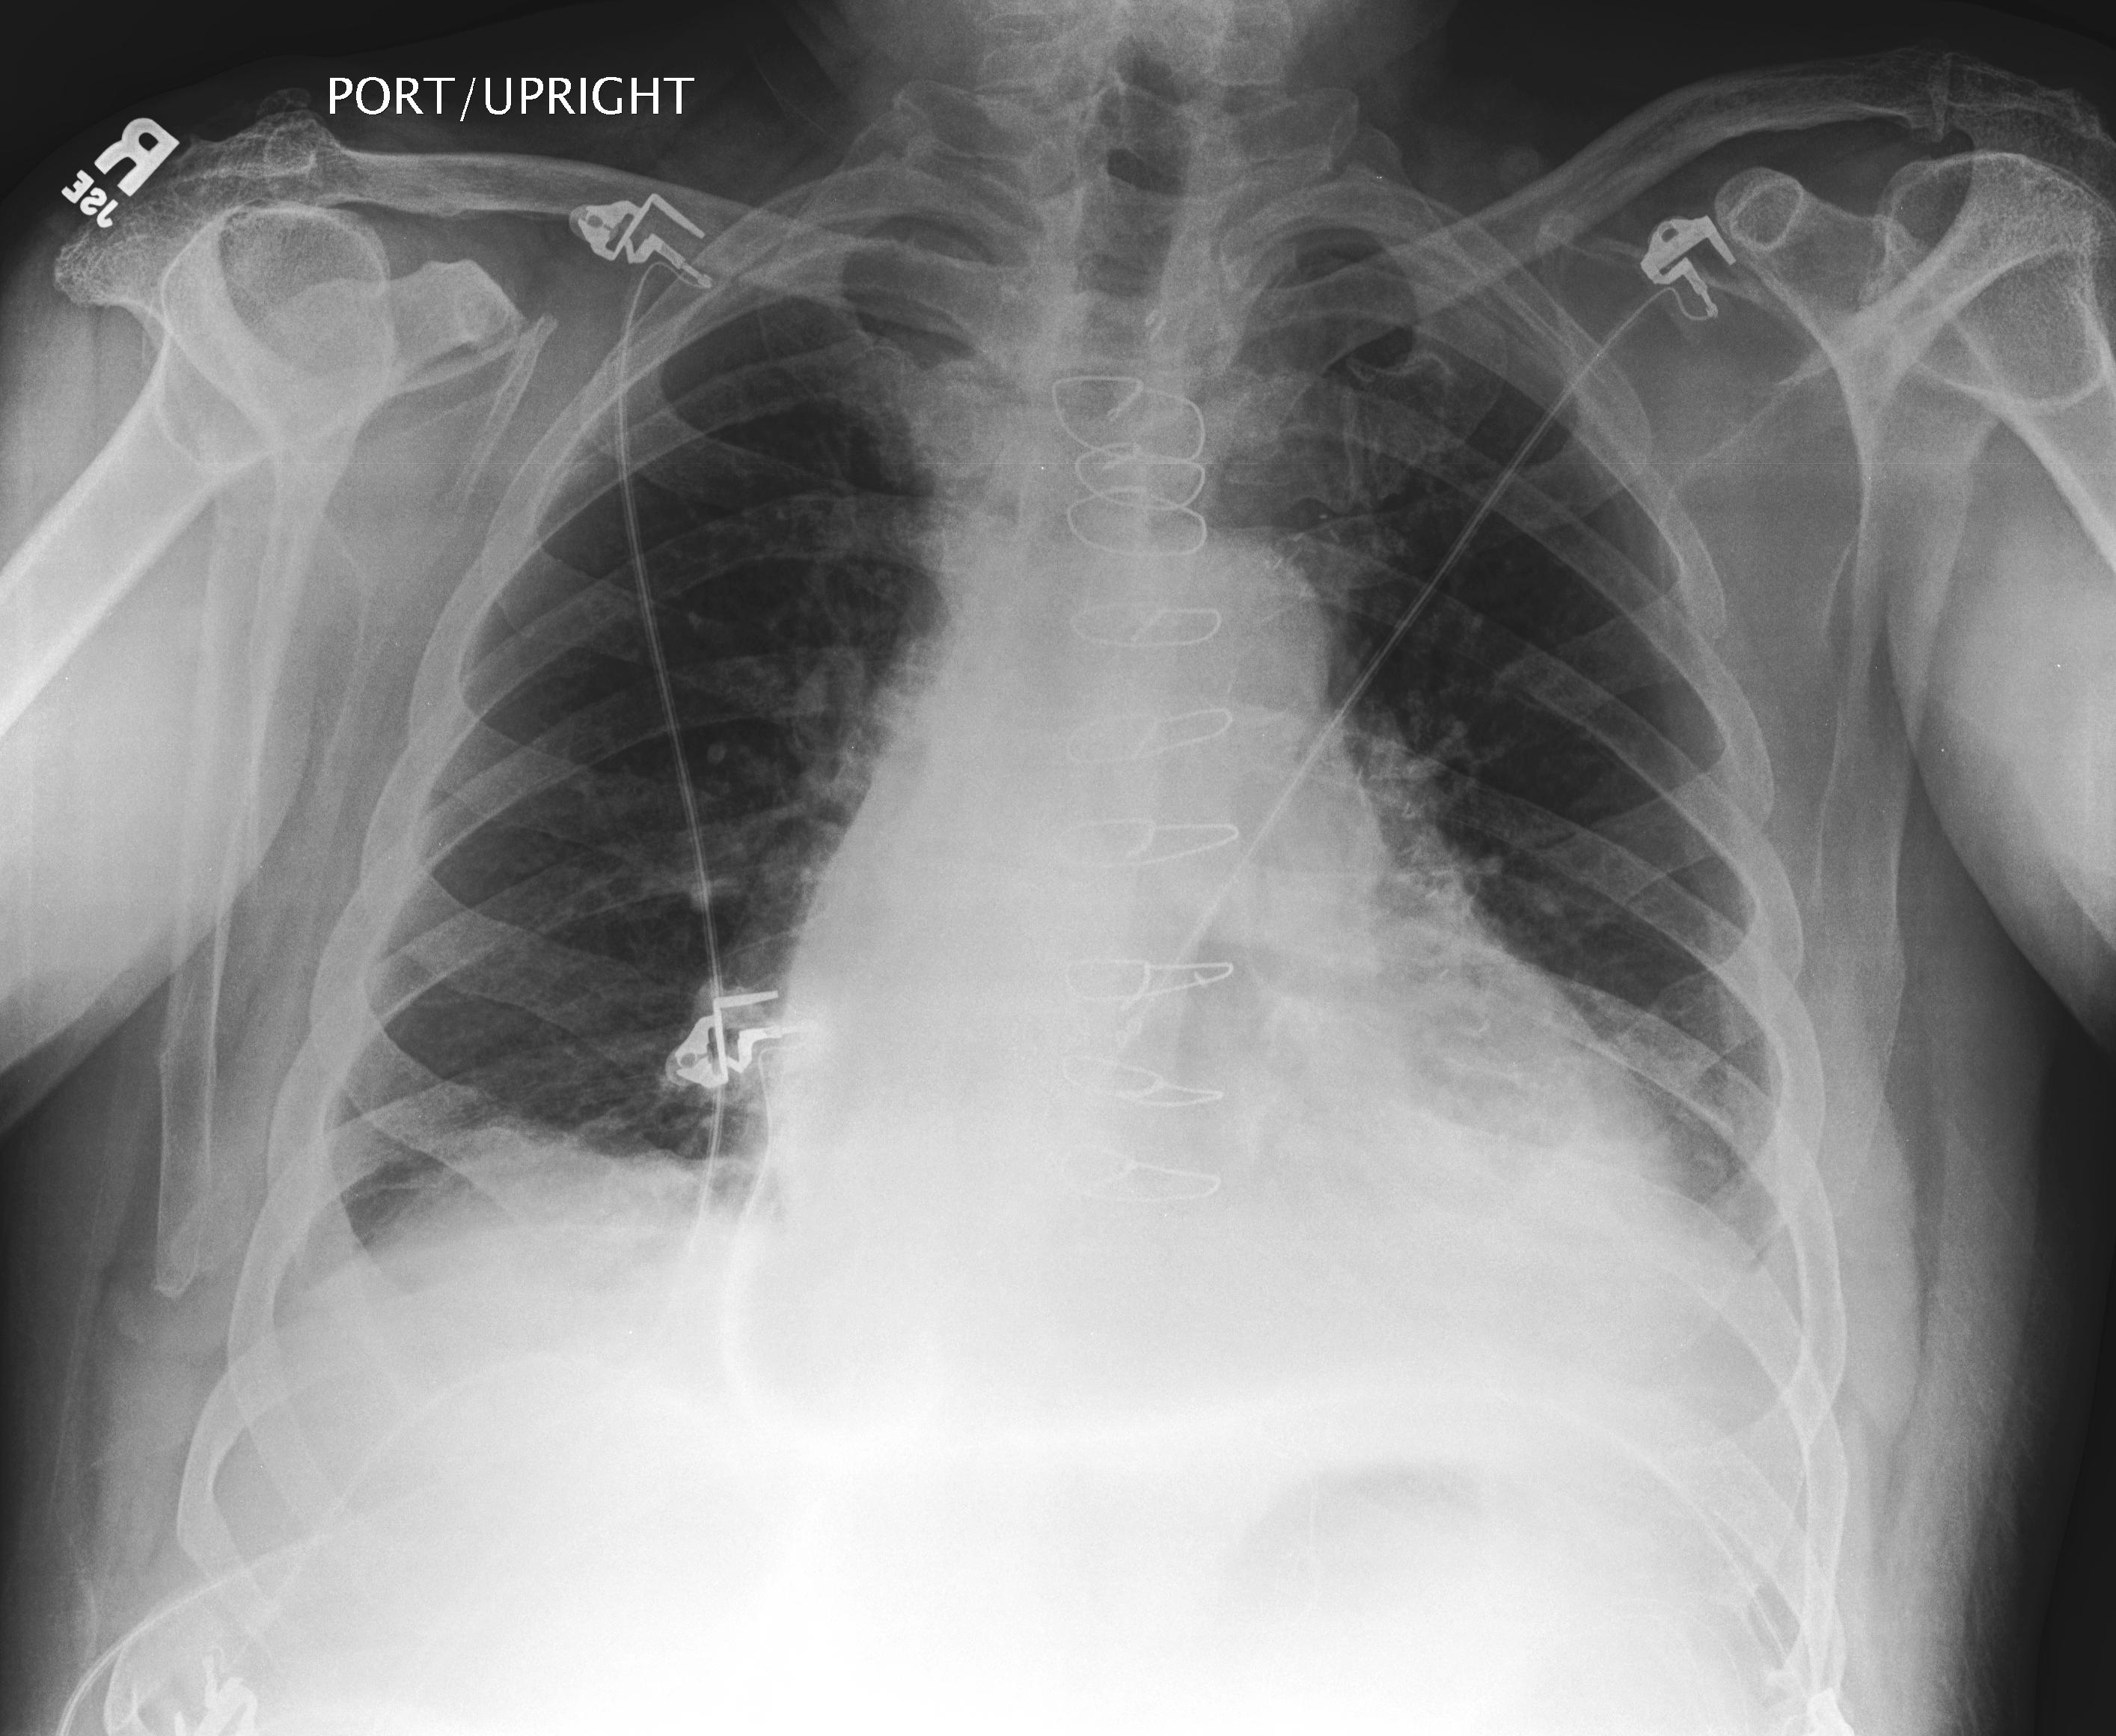Pleural Effusion: (221, 1137, 649, 1527), (1506, 1167, 1884, 1523)
